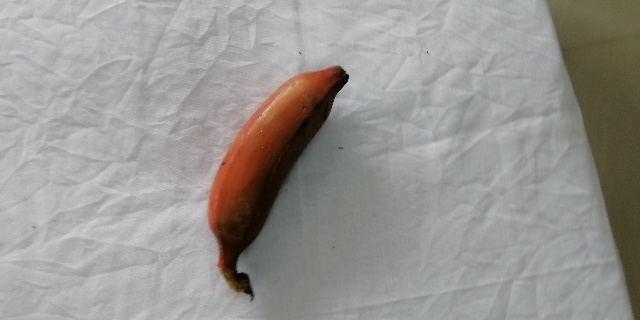banana_red: (207, 60, 351, 290)
